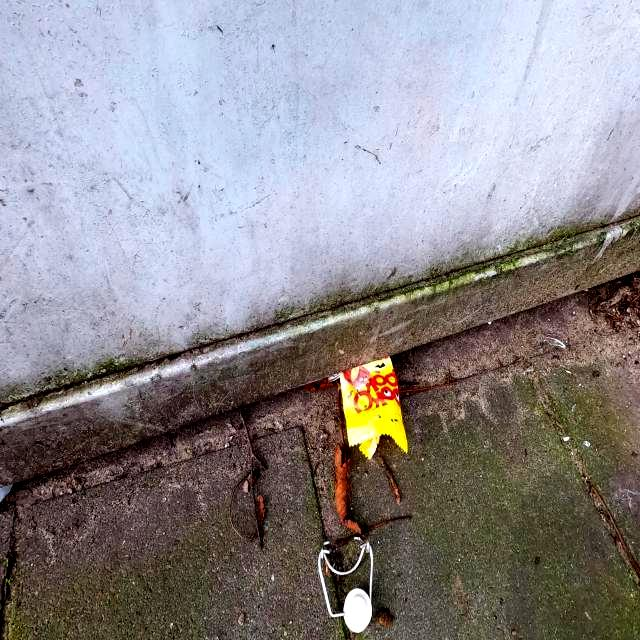Plastic: (340, 354, 408, 460)
